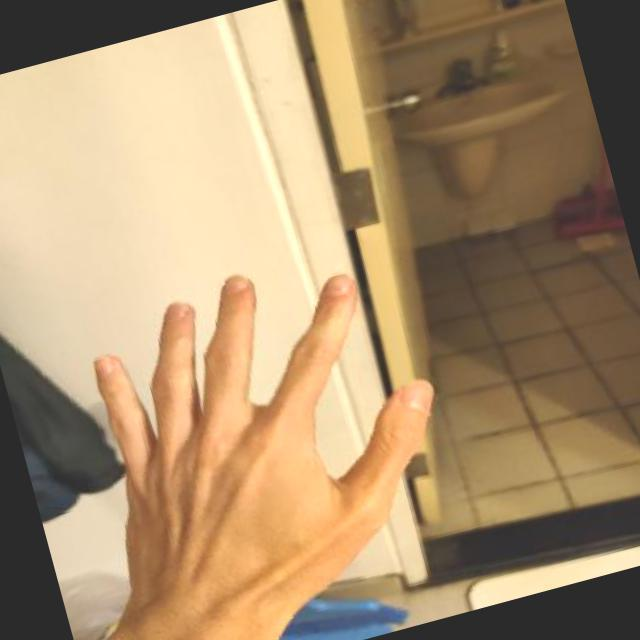hand: (26, 212, 489, 640)
